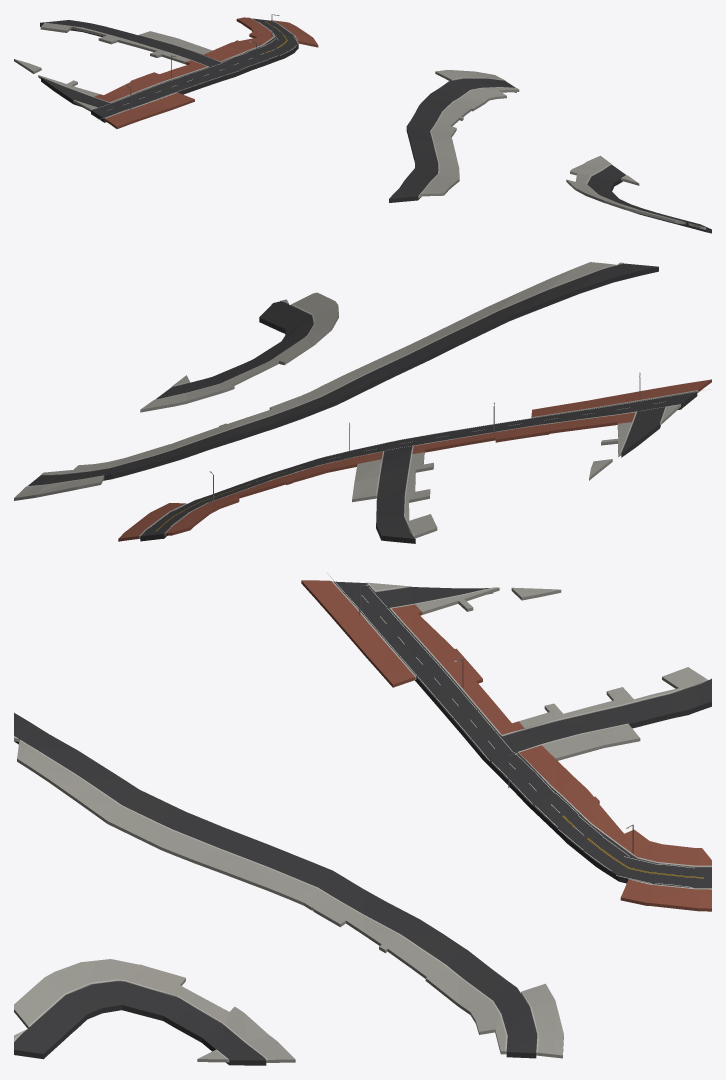
The model's file is 18-218915-118951.e037eaa5.glb.
The picture shows the model from 3 angles, top to bottom: view 1: azimuth 30°, elevation 25°; view 2: azimuth 150°, elevation 25°; view 3: azimuth 270°, elevation 25°; orthographic projection. The views are drawn at different scales.
Size of the model in its own units: 150 by 47.39 by 146.
